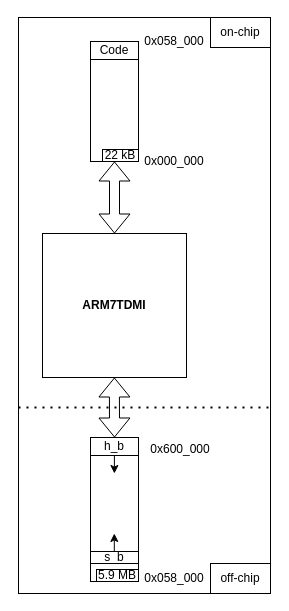
The diagram is 289 pixels wide and 611 high, and some of its shapes have lost their labels. The shapes that lost their labels are listed below. From the top down, each one's box as (x1, y1, x2, y2) in pixels, then its label:
(90, 40, 138, 162): ROM
(90, 436, 138, 582): SRAM
